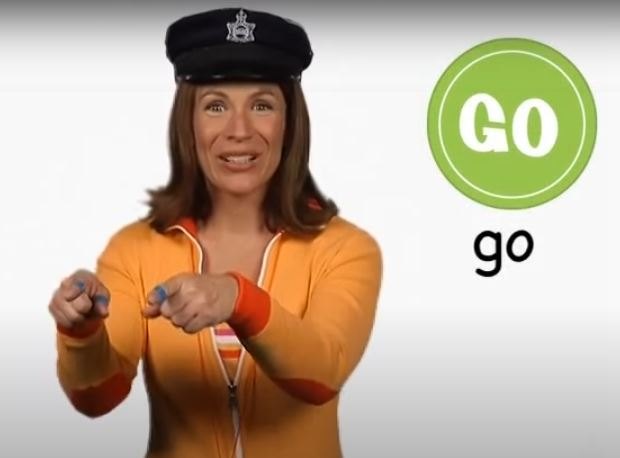go: (43, 251, 285, 372)
